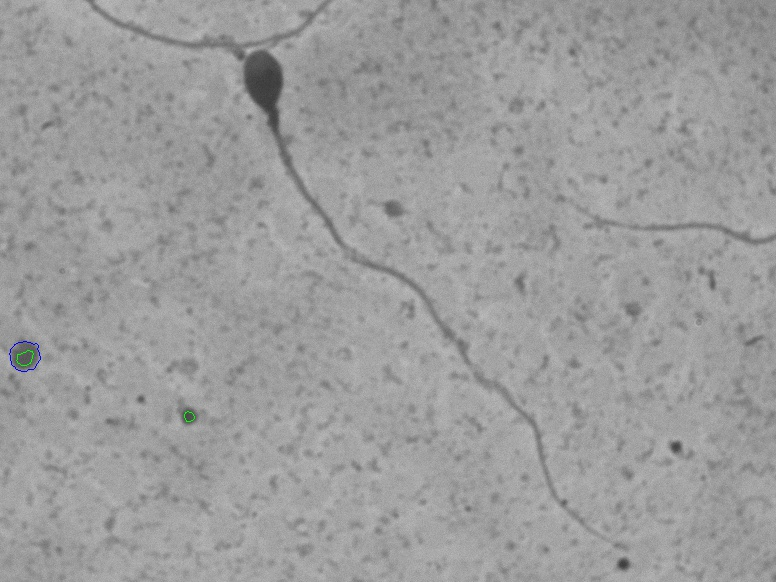Normal: (218, 42, 636, 574)
